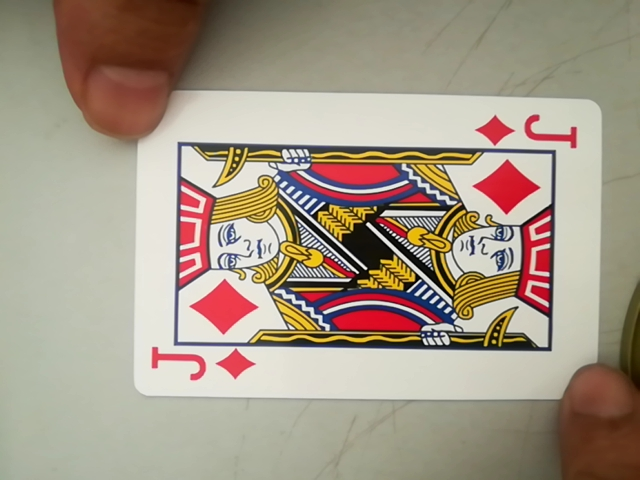fk j: (143, 343, 257, 389), (480, 110, 584, 152)
